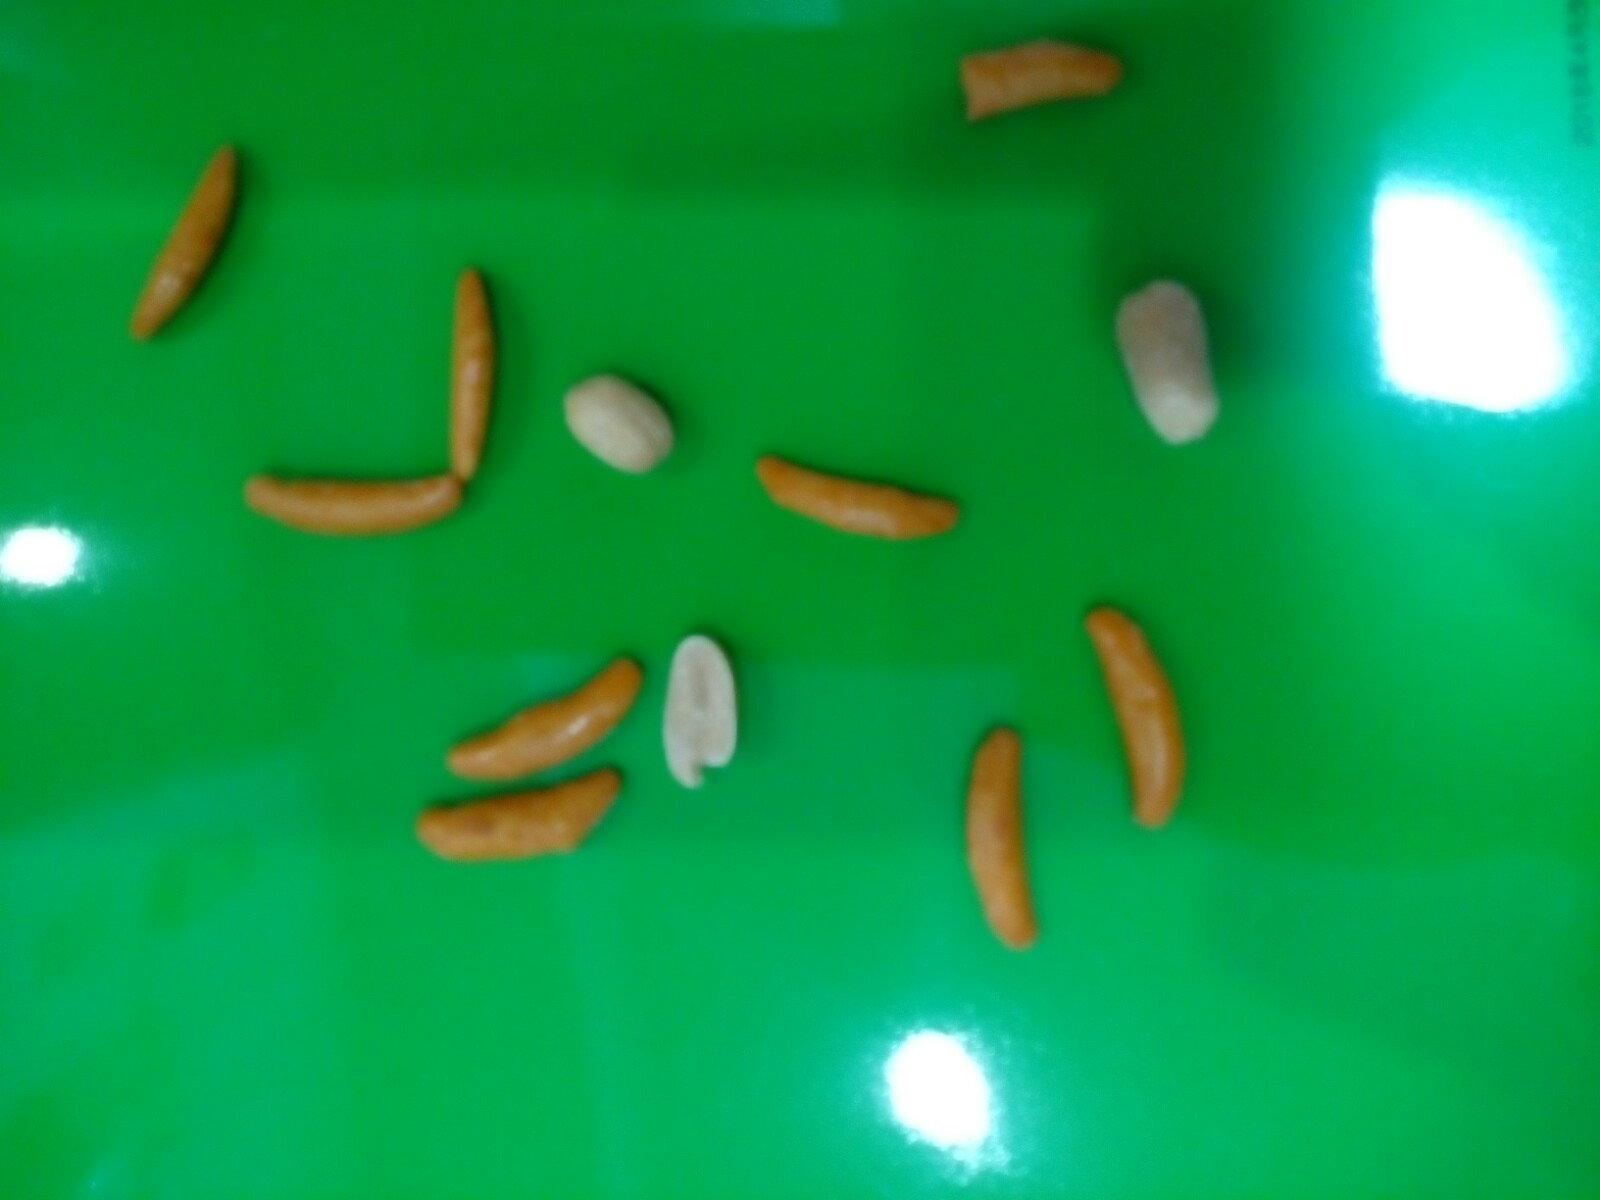peanut: (1112, 268, 1232, 454), (559, 369, 687, 476), (664, 628, 743, 793)
